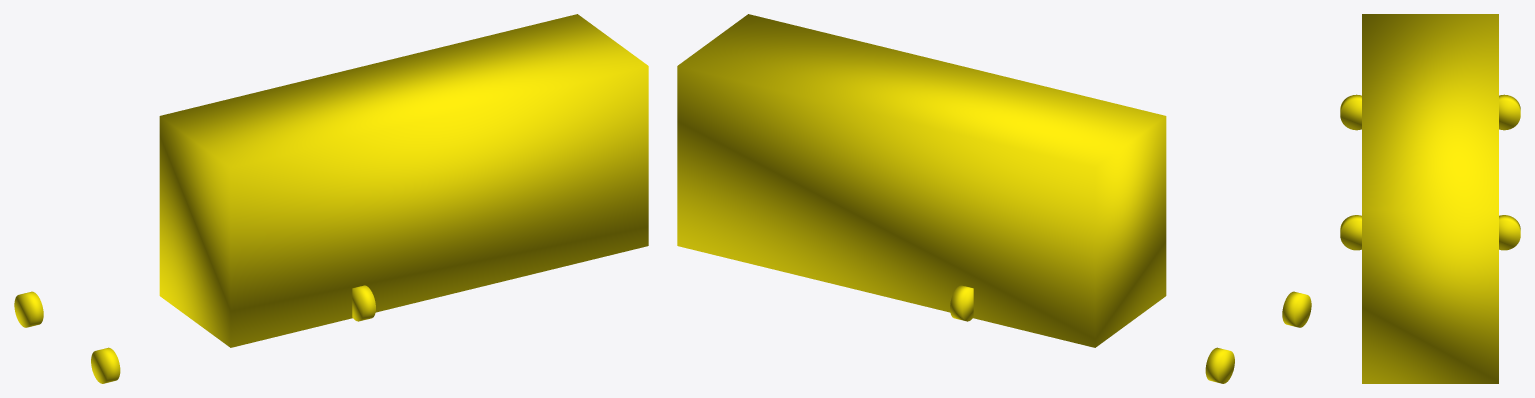
The model's file is Altec_eDigger_Derrick_Safety_Yellow.glb.
The picture shows the model from 3 angles, left to right: view 1: azimuth 30°, elevation 25°; view 2: azimuth 150°, elevation 25°; view 3: azimuth 270°, elevation 25°; orthographic projection. The views are drawn at different scales.
Parts seen in each view (by area): view 1: Altec_eDigger_Derrick; view 2: Altec_eDigger_Derrick; view 3: Altec_eDigger_Derrick.
Boxes of the visible parts, x1,y1,x2,y2 form: Altec_eDigger_Derrick: [14, 14, 648, 383]; Altec_eDigger_Derrick: [677, 14, 1311, 383]; Altec_eDigger_Derrick: [1340, 14, 1520, 383].
Bounding box in the file's own units: 11.23 × 3.5 × 3.3.
